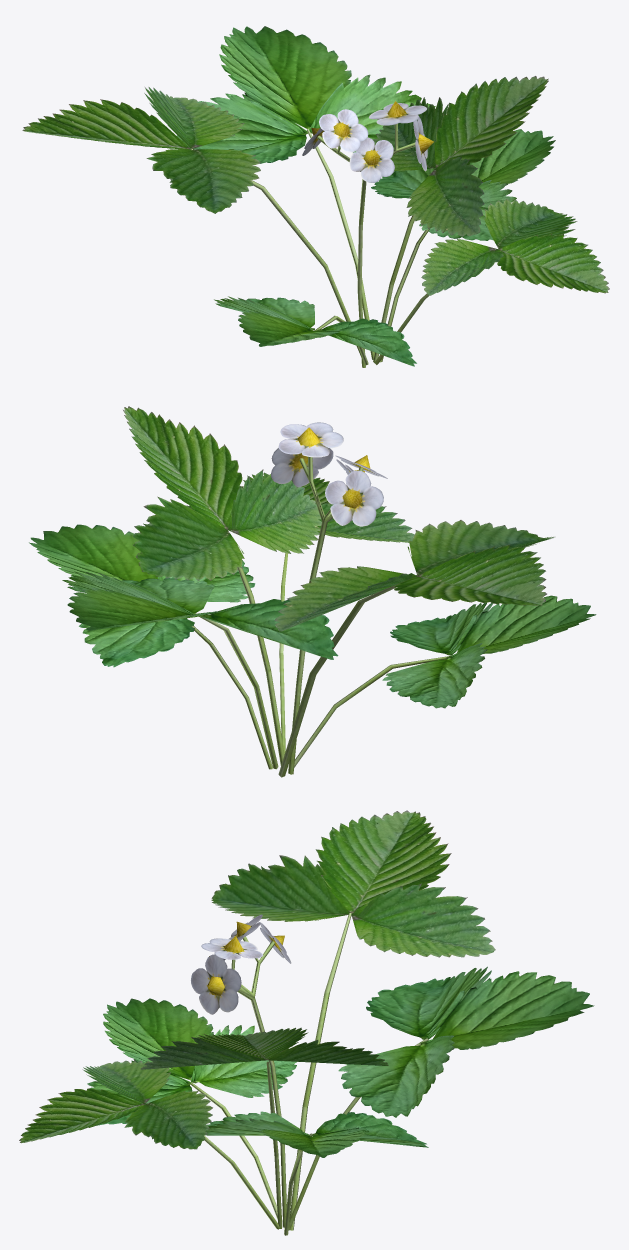
The model's file is Strawberry3.fbx.
The picture shows the model from 3 angles, top to bottom: view 1: azimuth 30°, elevation 25°; view 2: azimuth 150°, elevation 25°; view 3: azimuth 270°, elevation 25°; orthographic projection. The views are drawn at different scales.
Visible parts, largest first — view 1: Strawberry3_LOD0; view 2: Strawberry3_LOD0; view 3: Strawberry3_LOD0.
Boxes of the visible parts, <box> form: Strawberry3_LOD0: <box>22,26,609,367</box>; Strawberry3_LOD0: <box>29,406,596,777</box>; Strawberry3_LOD0: <box>19,810,594,1235</box>.
Size of what is drawn, in the model's own units: 64.36 by 34.23 by 62.85.
